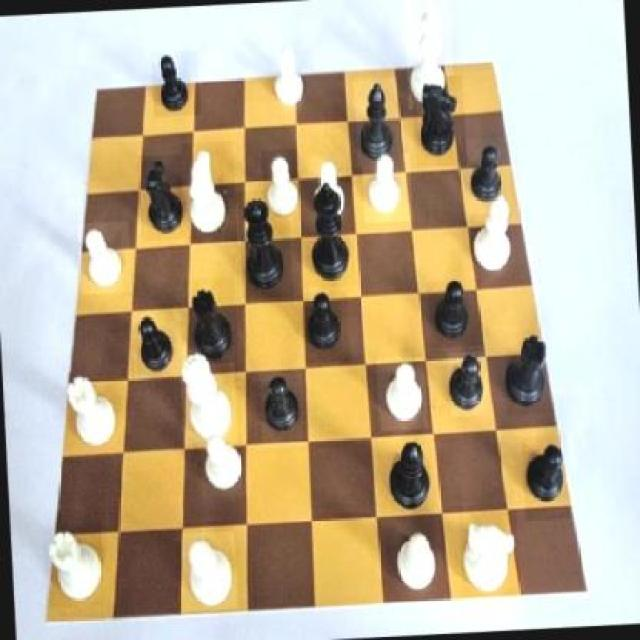bishop: (382, 437, 438, 514), (354, 78, 401, 168)
black-bishop: (298, 177, 358, 288)
black-king: (412, 75, 468, 168), (138, 154, 190, 240)
black-knight: (522, 437, 570, 521), (428, 278, 484, 348), (258, 368, 306, 447), (464, 137, 512, 214), (302, 291, 352, 364), (132, 312, 183, 382), (151, 51, 200, 118), (448, 352, 488, 418)
black-pawn: (237, 189, 294, 300)
black-queen: (184, 277, 238, 365), (503, 331, 556, 417)
black-rook: (178, 530, 238, 612), (471, 190, 520, 282)
white-bishop: (403, 0, 455, 110)
white-king: (458, 511, 522, 602), (182, 141, 238, 244)
white-knight: (391, 525, 446, 600), (78, 222, 132, 296), (376, 357, 428, 432), (198, 424, 248, 498), (363, 153, 414, 224), (266, 43, 316, 114), (308, 155, 350, 228), (262, 149, 302, 223)
white-pawn: (178, 344, 238, 446)
white-queen: (43, 523, 105, 609), (66, 371, 122, 457)
